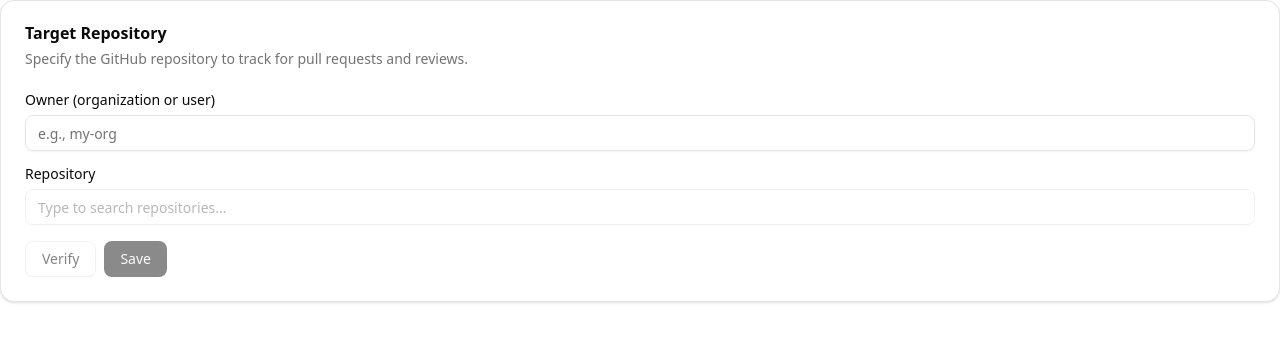
Test: GitHubRepoForm › shows success feedback after saving
Type "my-org" into the field labelled "Owner (organization or user)" at [640, 133], box [25, 115, 1255, 151]
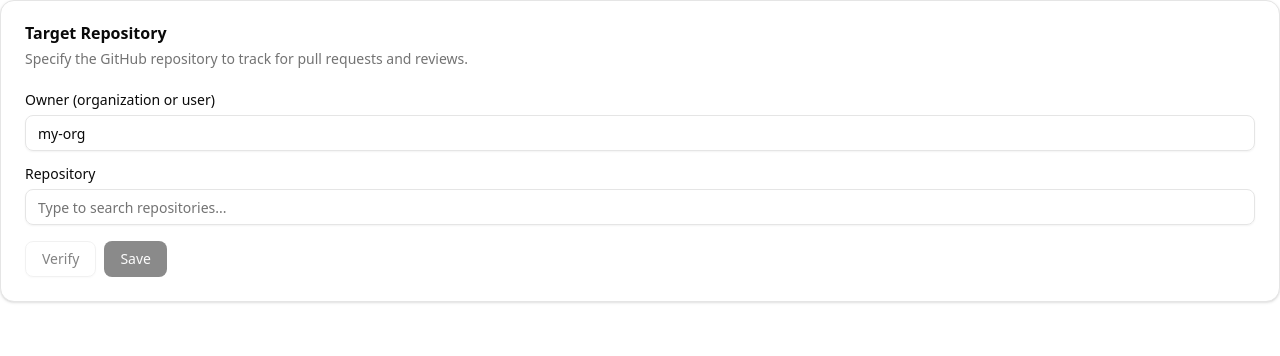
Type "my-repo" into the field labelled "Repository" at [640, 207], box [25, 189, 1255, 225]
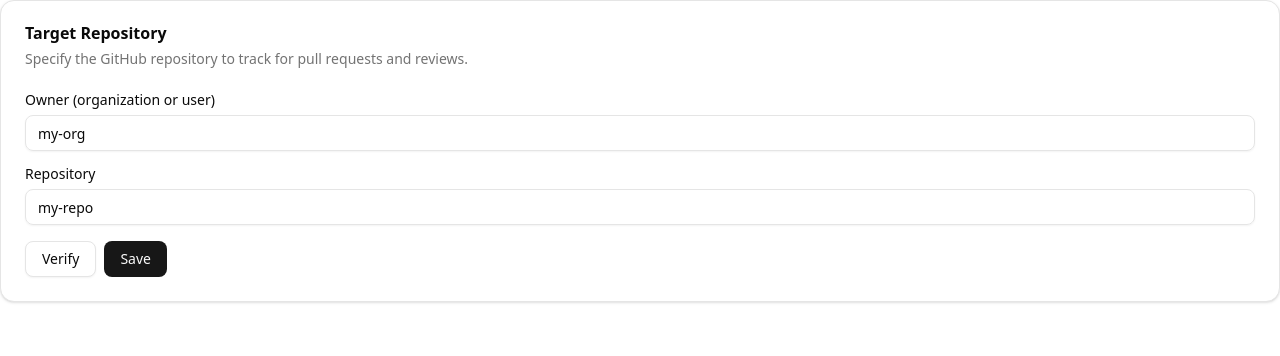
Click the button "Save" at [136, 259], box [104, 241, 167, 277]
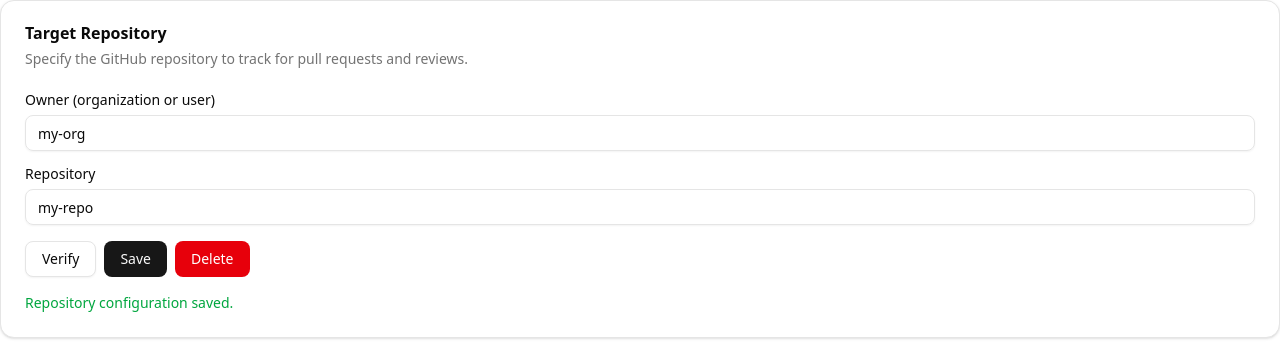
Now the text "Repository configuration saved." is shown, box [25, 293, 233, 312]
